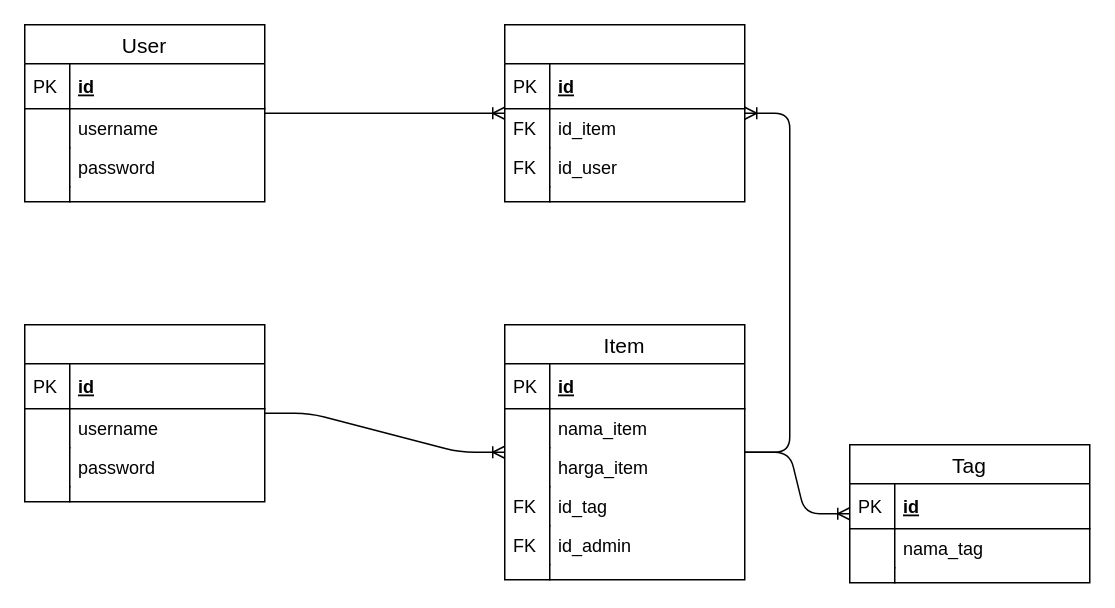
Image size: 1115x608. Some labels were removed from this diagram. Here are the shapes that lost their labels. From the top down, the box of each, then its label:
(503, 23, 745, 202): Transaksi
(23, 323, 265, 502): Admin
